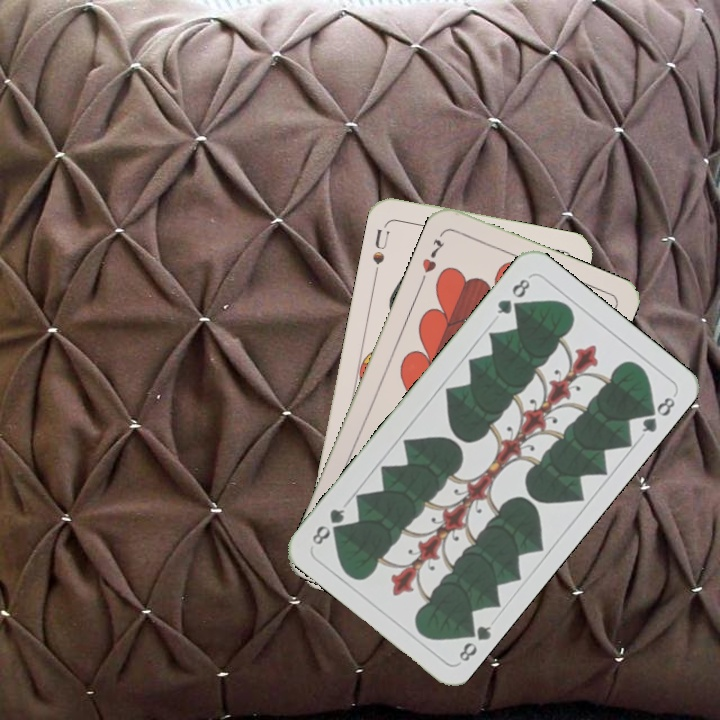G8: (454, 618, 495, 665), (492, 272, 533, 317)
H7: (418, 235, 448, 276)
SU: (368, 225, 392, 279)
